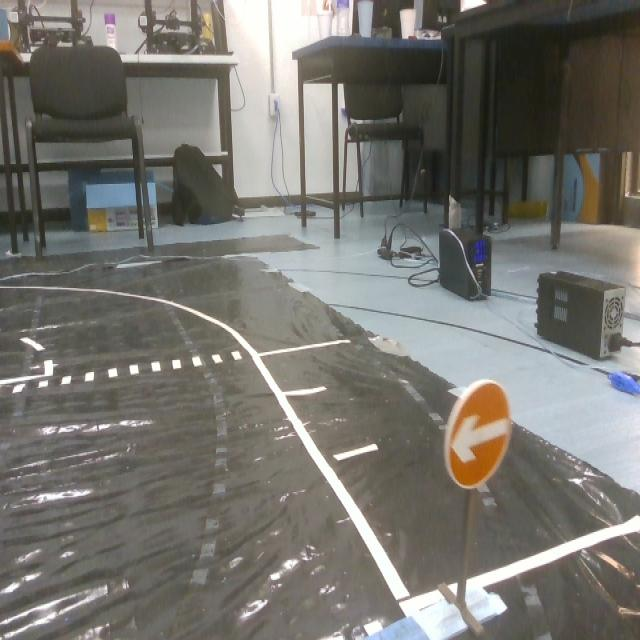forward: (440, 377, 514, 492)
